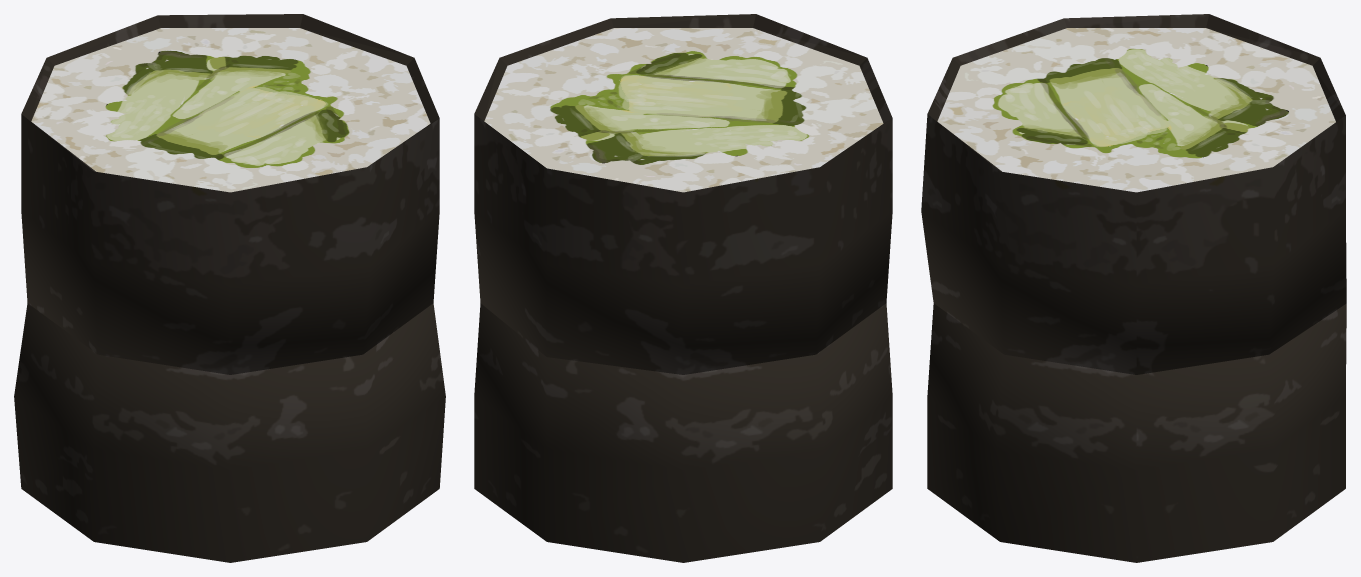
The model's file is SM_SushiVerde_Split.fbx.
3 renders of one model, left to right at view 1: azimuth 30°, elevation 25°; view 2: azimuth 150°, elevation 25°; view 3: azimuth 270°, elevation 25°, orthographic.
Visible parts, largest first — view 1: Sushi_Verde_Split2, Sushi_Verde_Split; view 2: Sushi_Verde_Split2, Sushi_Verde_Split; view 3: Sushi_Verde_Split2, Sushi_Verde_Split.
Part boxes in pixels (x1,y1,x2,y2): Sushi_Verde_Split2: (21,14,439,374); Sushi_Verde_Split: (14,303,445,562); Sushi_Verde_Split2: (474,14,892,374); Sushi_Verde_Split: (474,303,892,562); Sushi_Verde_Split2: (921,14,1346,374); Sushi_Verde_Split: (927,303,1346,562).
Bounding box in the file's own units: 7.31 × 7.22 × 7.42.
